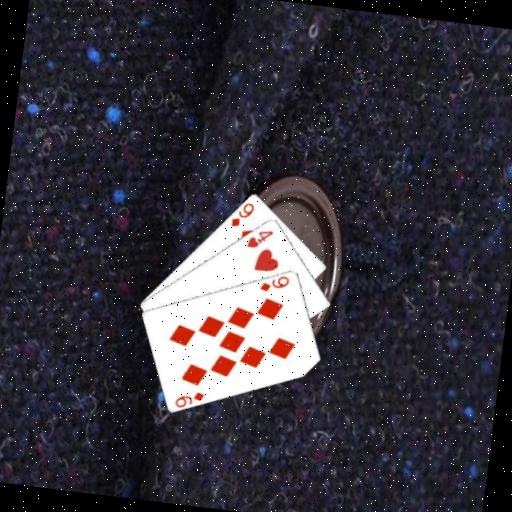4H: (243, 225, 275, 252)
9D: (228, 198, 257, 231), (257, 269, 292, 296), (172, 386, 207, 412)
